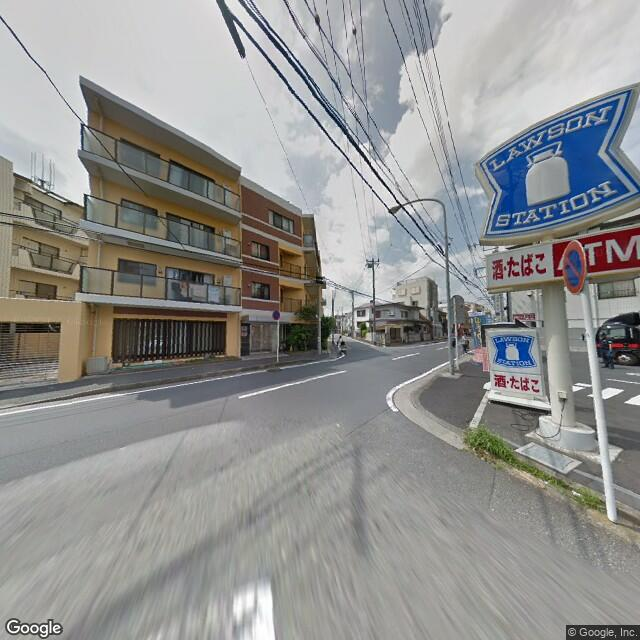lawson: (480, 75, 635, 244), (487, 324, 539, 374)
